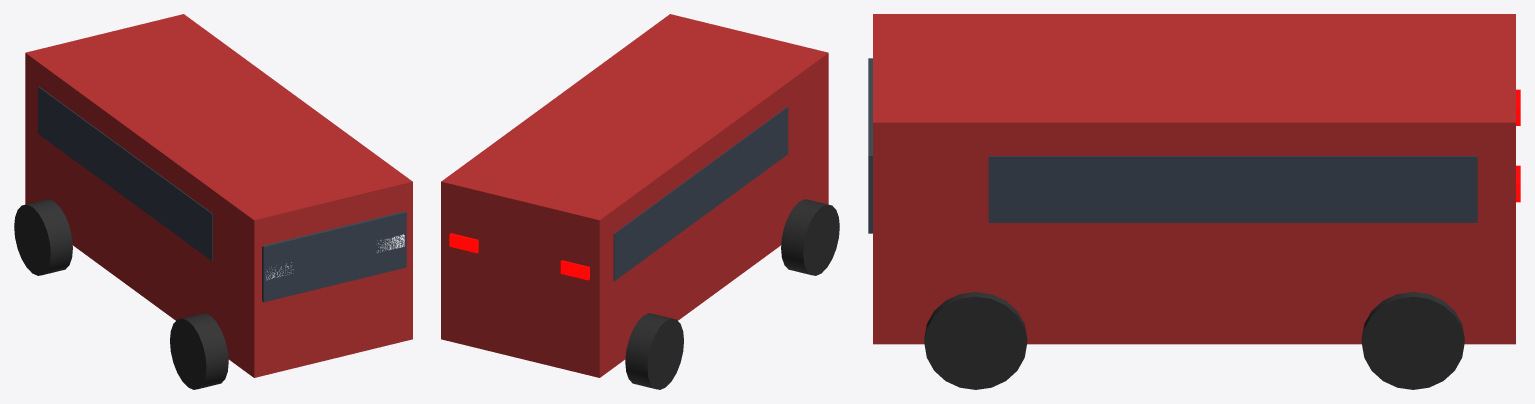
File: van.glb
3 renders of one model, left to right at view 1: azimuth 30°, elevation 25°; view 2: azimuth 150°, elevation 25°; view 3: azimuth 270°, elevation 25°, orthographic. The views are drawn at different scales.
Visible parts, largest first — view 1: Van; view 2: Van; view 3: Van.
Boxes of the visible parts, left/top/right/bottom form: Van: left=14, top=14, right=412, bottom=389; Van: left=441, top=14, right=839, bottom=389; Van: left=868, top=14, right=1520, bottom=389.
Size of the model in its own units: 2.46 by 2.25 by 5.07.
